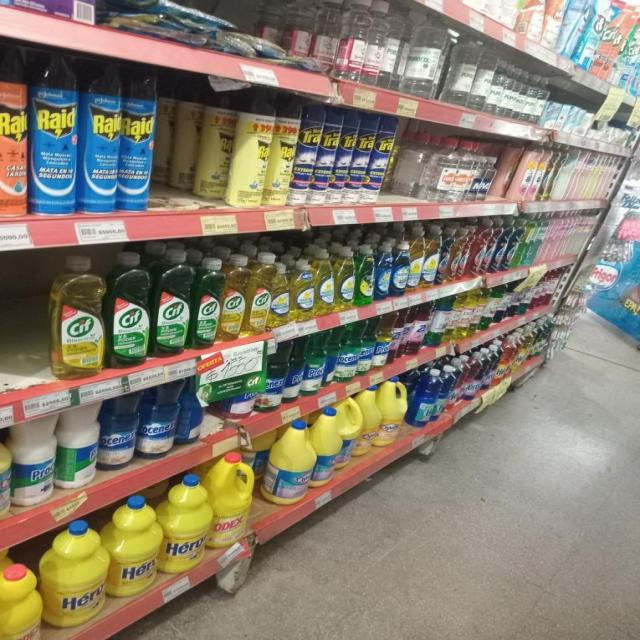ala_conc_amarillo: (451, 224, 463, 283)
cif_conc_bot_amarilla: (50, 254, 105, 378), (222, 254, 246, 340), (247, 252, 270, 334)
cif_conc_botella_verde: (108, 250, 150, 368), (153, 248, 191, 356), (193, 255, 220, 348)
magistral_con_amarillo: (292, 258, 314, 321), (270, 260, 290, 328), (315, 248, 334, 315), (336, 246, 354, 310), (423, 225, 439, 287), (410, 224, 422, 292), (439, 226, 451, 286)
magistral_con_azul: (375, 241, 392, 300), (392, 240, 408, 296)
